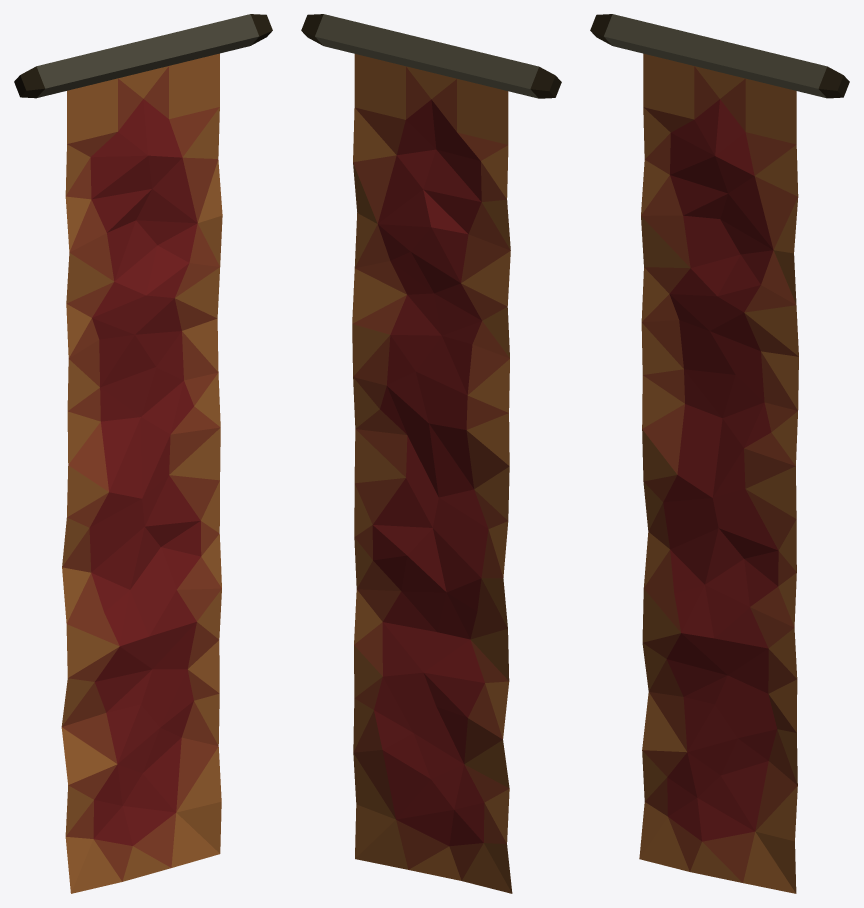
Rendered from Prop_TapestryThinA.fbx.
3 views of the same model, side by side, from view 1: azimuth 30°, elevation 25°; view 2: azimuth 150°, elevation 25°; view 3: azimuth 330°, elevation 25° (orthographic).
Parts seen in each view (by area): view 1: Prop_TapestryThinA; view 2: Prop_TapestryThinA; view 3: Prop_TapestryThinA.
Boxes of the visible parts, box(x1,y1,x2,y2) form: Prop_TapestryThinA: box(14, 14, 272, 893); Prop_TapestryThinA: box(301, 14, 561, 893); Prop_TapestryThinA: box(590, 14, 849, 893).
Size of the model in its own units: 80.63 by 260 by 10.
